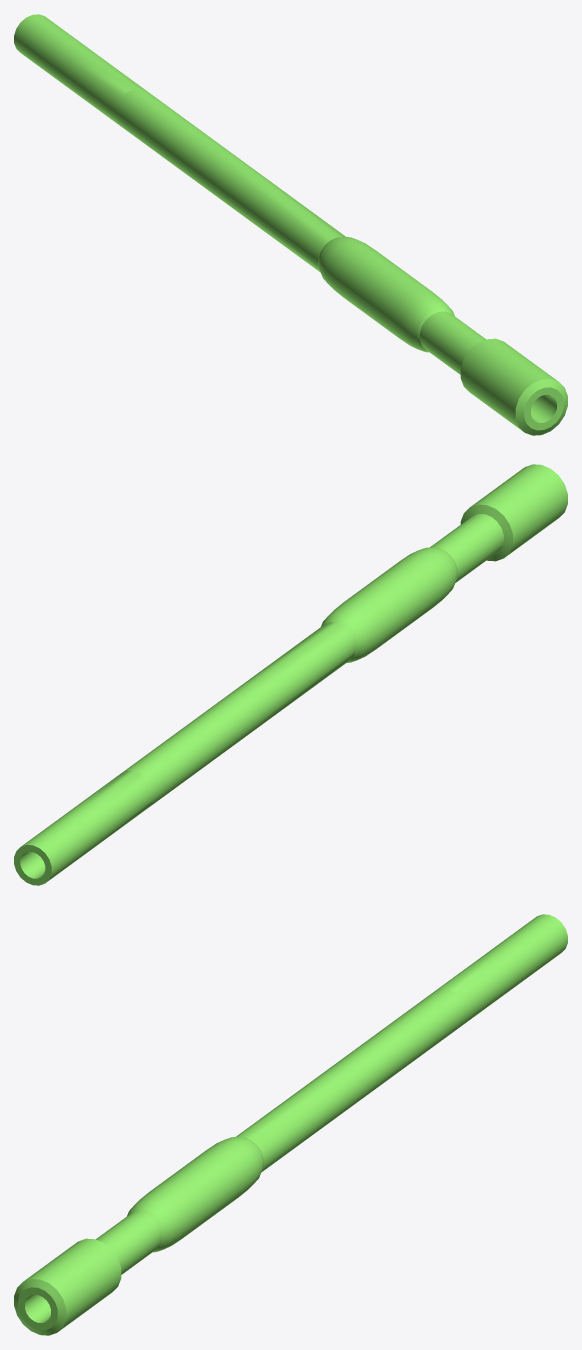
The model's file is Blowgun.FBX.
3 views of the same model, one above another, from view 1: azimuth 30°, elevation 25°; view 2: azimuth 150°, elevation 25°; view 3: azimuth 330°, elevation 25° (orthographic).
Parts seen in each view (by area): view 1: Blowgun; view 2: Blowgun; view 3: Blowgun.
Boxes of the visible parts, box(x1,y1,x2,y2) form: Blowgun: box(14, 14, 567, 435); Blowgun: box(14, 464, 567, 885); Blowgun: box(14, 914, 567, 1335).
Bounding box in the file's own units: 7.02 × 7.13 × 119.
